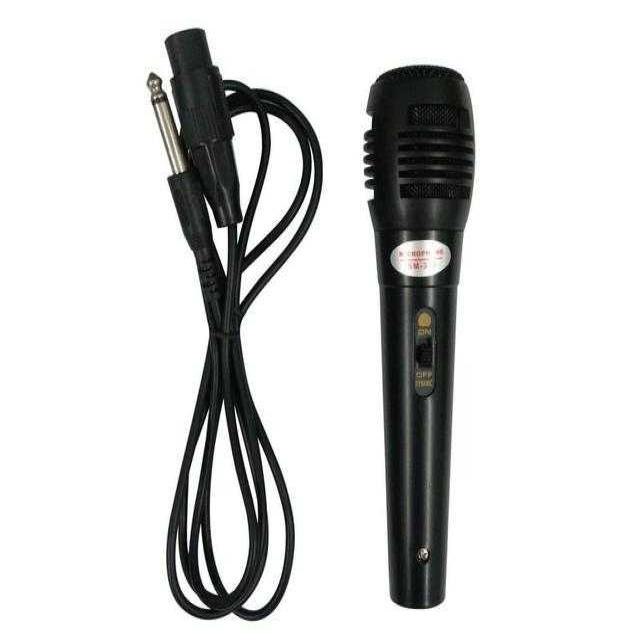microphone: (348, 55, 482, 618)
